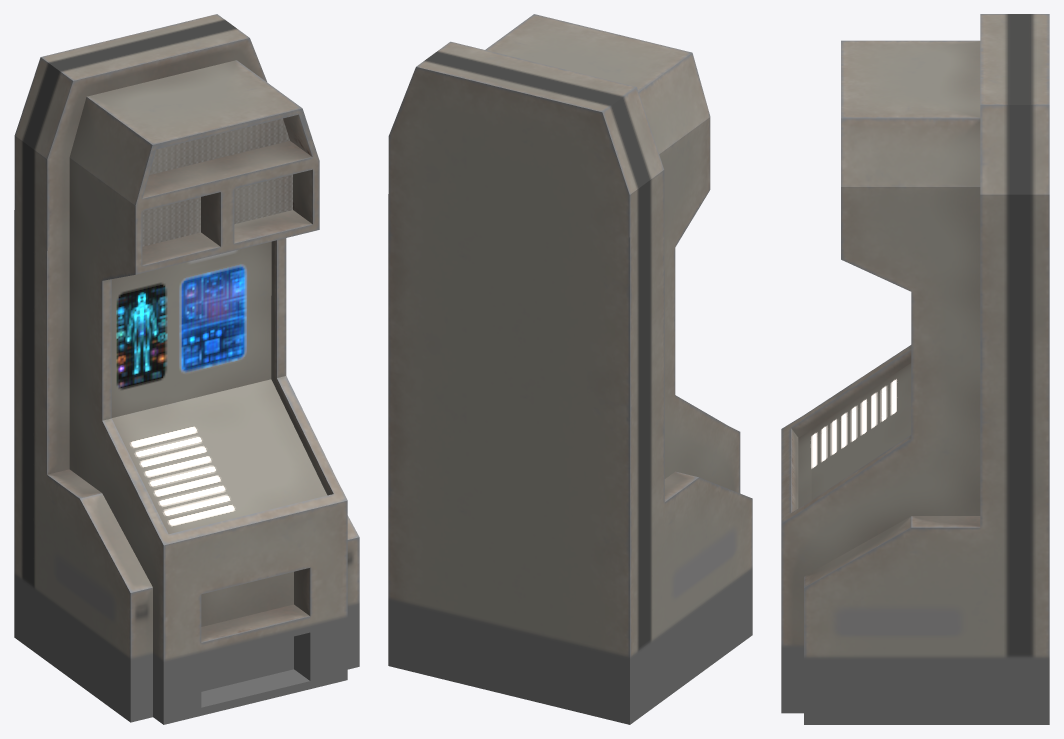
File: scifi_terminal_b.glb
3 views of the same model, side by side, from view 1: azimuth 30°, elevation 25°; view 2: azimuth 150°, elevation 25°; view 3: azimuth 270°, elevation 25° (orthographic). The views are drawn at different scales.
Visible parts, largest first — view 1: scifi_terminal; view 2: scifi_terminal; view 3: scifi_terminal.
Part boxes in pixels (box(x1,y1,x2,y2)): scifi_terminal: box(14, 14, 359, 724); scifi_terminal: box(388, 14, 752, 724); scifi_terminal: box(781, 14, 1049, 724).
Size of the model in its own units: 1 by 2.4 by 0.9598.
Materials: 1 (1 with a texture image).
